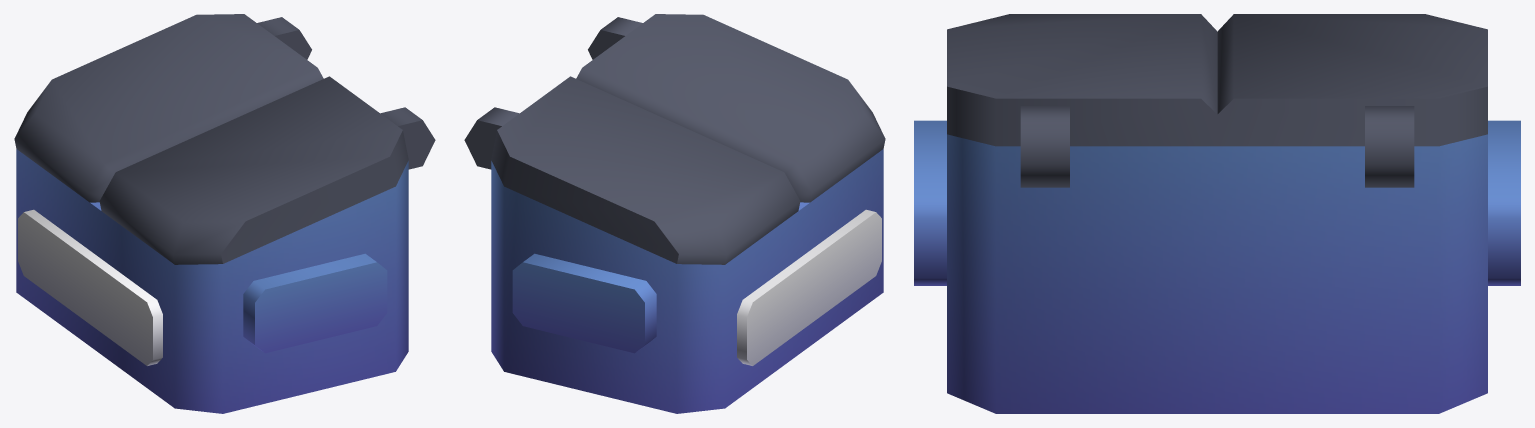
File: dumpster.glb
3 renders of one model, left to right at view 1: azimuth 30°, elevation 25°; view 2: azimuth 150°, elevation 25°; view 3: azimuth 270°, elevation 25°, orthographic. The views are drawn at different scales.
Visible parts, largest first — view 1: dumpster, lid-right, lid-left; view 2: dumpster, lid-left, lid-right; view 3: dumpster, lid-right, lid-left.
Boxes of the visible parts, x1=… form: dumpster: x1=16, y1=17, x2=435, y2=413; lid-right: x1=99, y1=76, x2=408, y2=264; lid-left: x1=14, y1=14, x2=323, y2=202; dumpster: x1=464, y1=17, x2=883, y2=413; lid-left: x1=491, y1=76, x2=800, y2=264; lid-right: x1=576, y1=14, x2=885, y2=202; dumpster: x1=914, y1=106, x2=1520, y2=413; lid-right: x1=947, y1=14, x2=1217, y2=146; lid-left: x1=1217, y1=14, x2=1487, y2=146.
Bounding box in the file's own units: 0.275 × 0.2094 × 0.37.
1 material, 1 textured.
